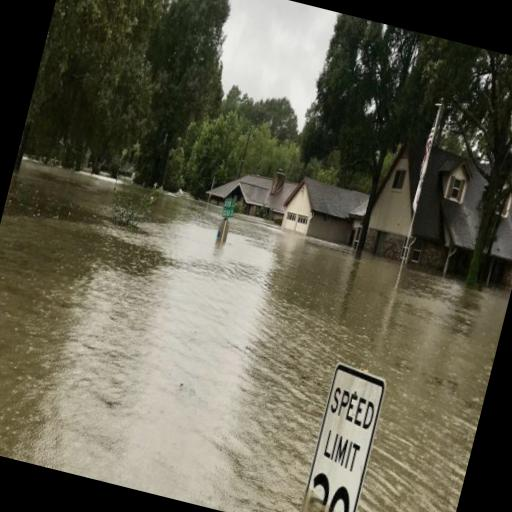flood: (0, 160, 509, 512)
house: (367, 138, 430, 242), (278, 172, 360, 244), (208, 164, 272, 220)
